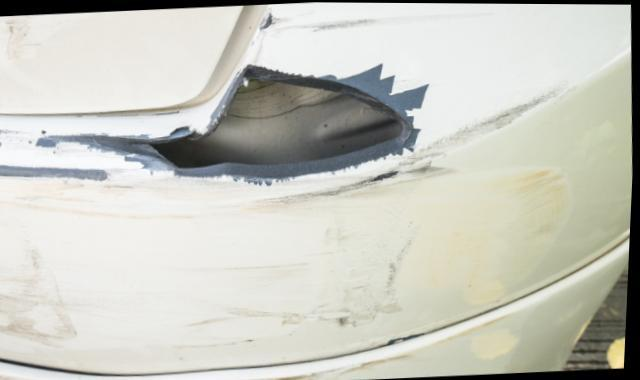crack: (154, 74, 411, 170)
scratch: (0, 81, 588, 377), (0, 311, 534, 380), (260, 11, 470, 35)
